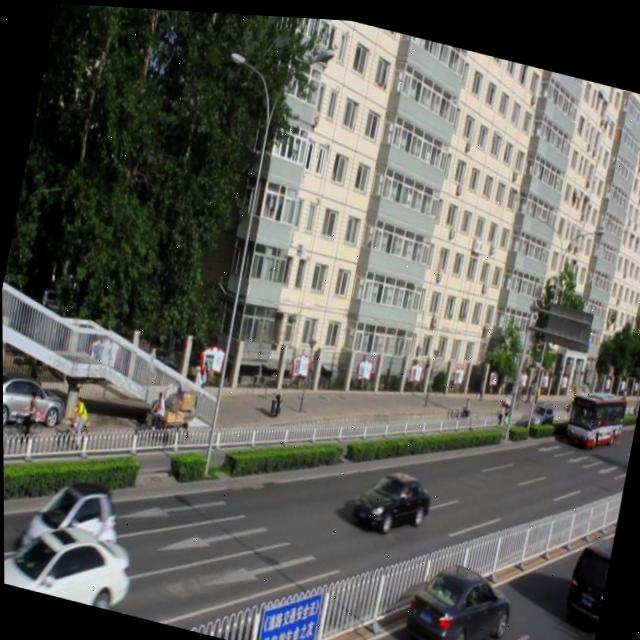car: (3, 502, 137, 613), (17, 469, 123, 580), (397, 543, 515, 640), (347, 455, 435, 537), (556, 518, 614, 622)
